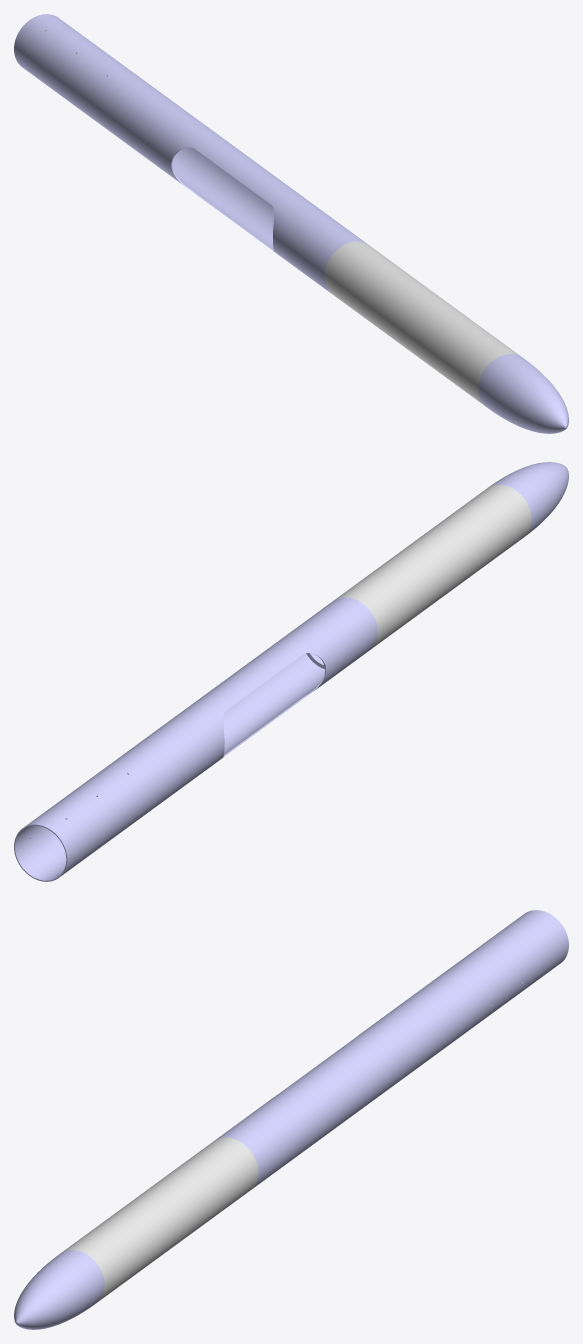
The picture shows the model from 3 angles, top to bottom: view 1: azimuth 30°, elevation 25°; view 2: azimuth 150°, elevation 25°; view 3: azimuth 330°, elevation 25°; orthographic projection.
Bounding box in the file's own units: 100 × 100 × 1710.
